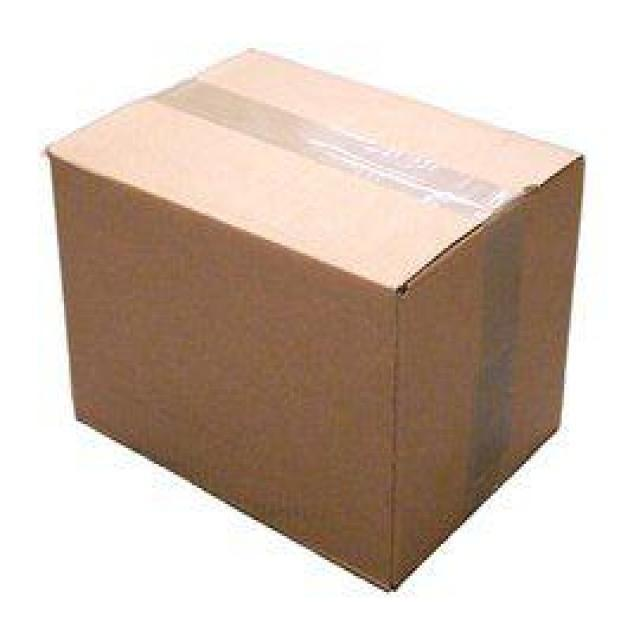box: (48, 42, 581, 597)
